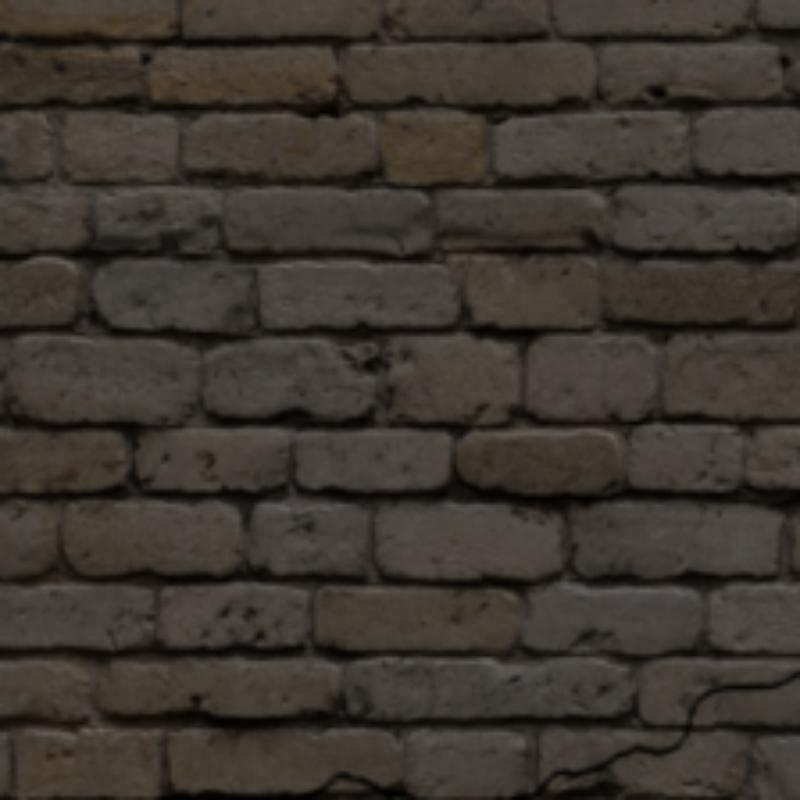pothole: (504, 671, 796, 796), (300, 771, 414, 796)
